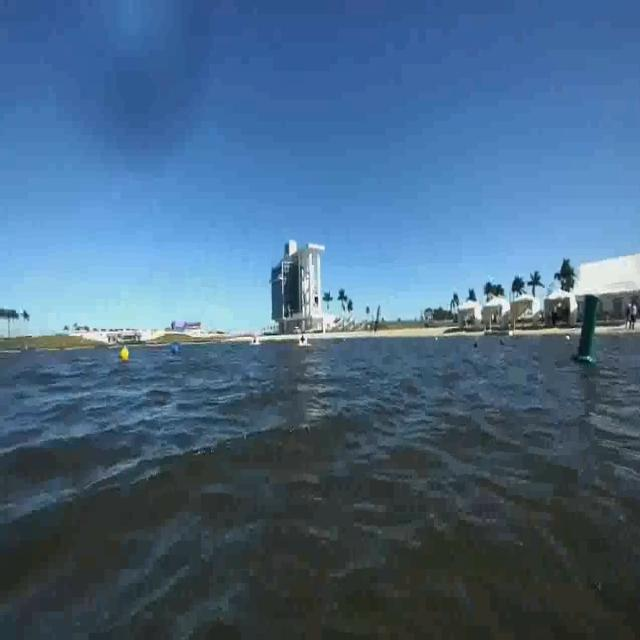blue-buoy: (170, 341, 181, 357)
green-column-buoy: (574, 295, 599, 367)
yellow-buoy: (120, 346, 129, 363)
